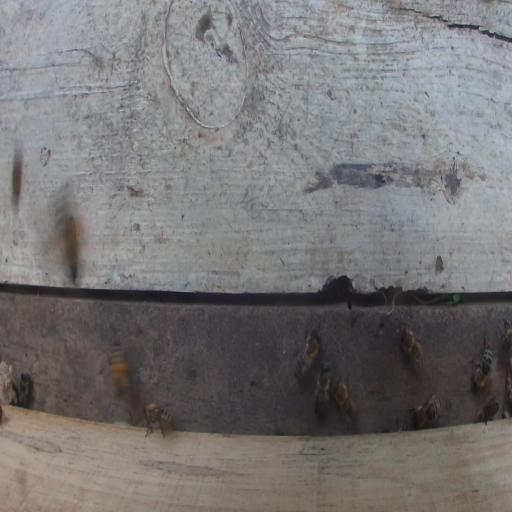nonpollenbee: (294, 327, 321, 379), (467, 334, 492, 390), (332, 373, 357, 428), (398, 324, 423, 375), (143, 402, 174, 439), (314, 360, 332, 420), (410, 394, 441, 428), (11, 372, 31, 408), (476, 396, 499, 426), (500, 318, 512, 350)
